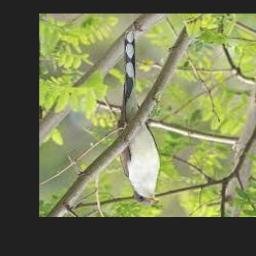Cuckoo: (119, 30, 161, 205)
